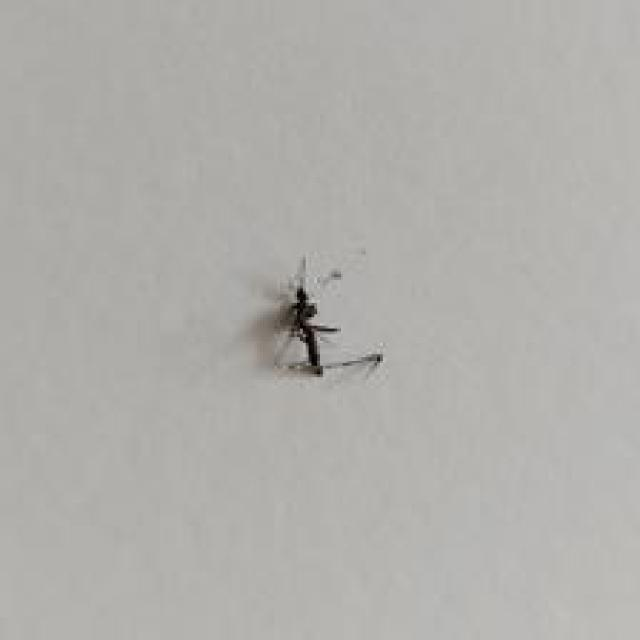Aedes albopictus: (268, 253, 383, 378)
